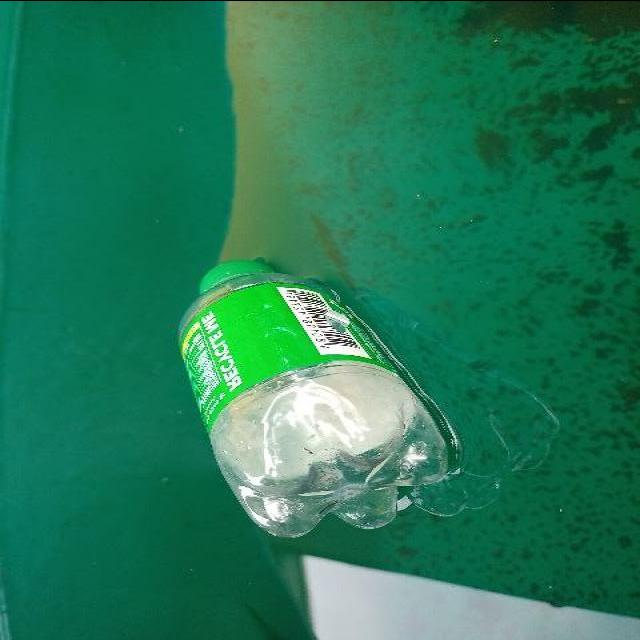Bottle: (178, 256, 462, 538)
